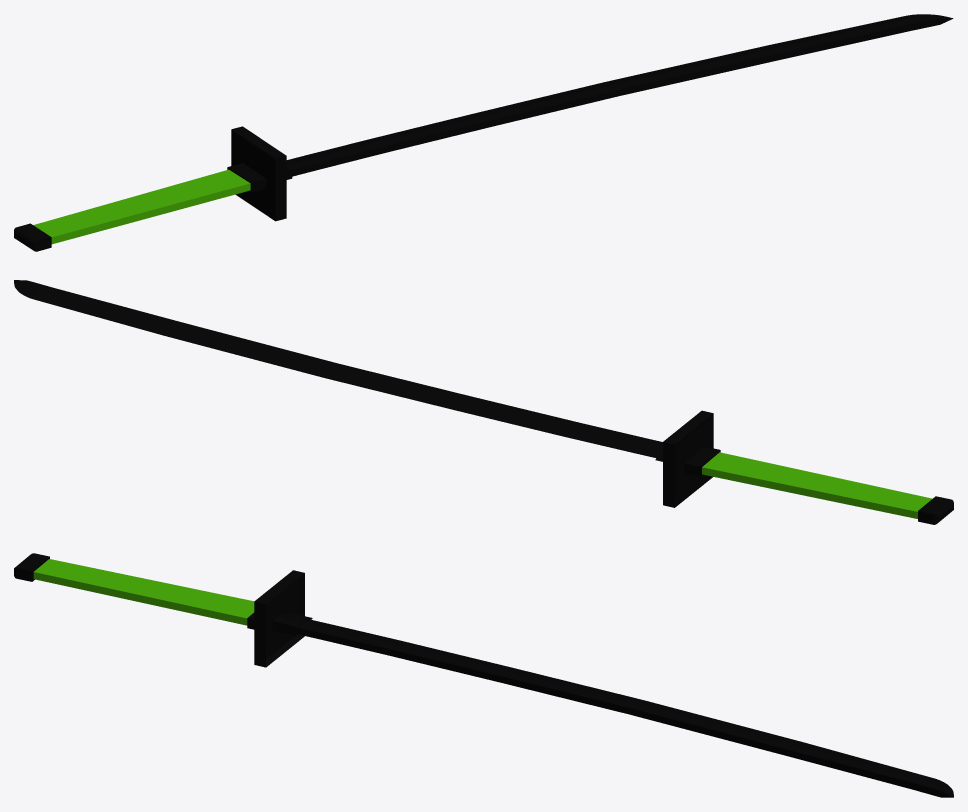
Rendered from Black-Green-Katana.fbx.
The picture shows the model from 3 angles, top to bottom: view 1: azimuth 30°, elevation 25°; view 2: azimuth 150°, elevation 25°; view 3: azimuth 330°, elevation 25°; orthographic projection.
Parts seen in each view (by area): view 1: Cube; view 2: Cube; view 3: Cube.
Boxes of the visible parts, x1,y1,x2,y2 form: Cube: (14,14,953,251); Cube: (14,280,953,524); Cube: (14,553,953,797).
Bounding box in the file's own units: 139 × 8.94 × 10.73.
